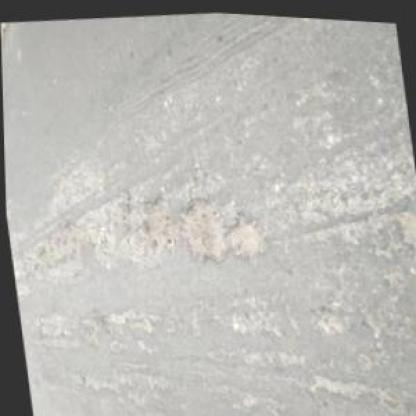pothole: (32, 209, 103, 270), (172, 187, 226, 265), (139, 189, 179, 258), (302, 361, 369, 402), (220, 205, 270, 258), (310, 300, 346, 334), (390, 197, 414, 247)
